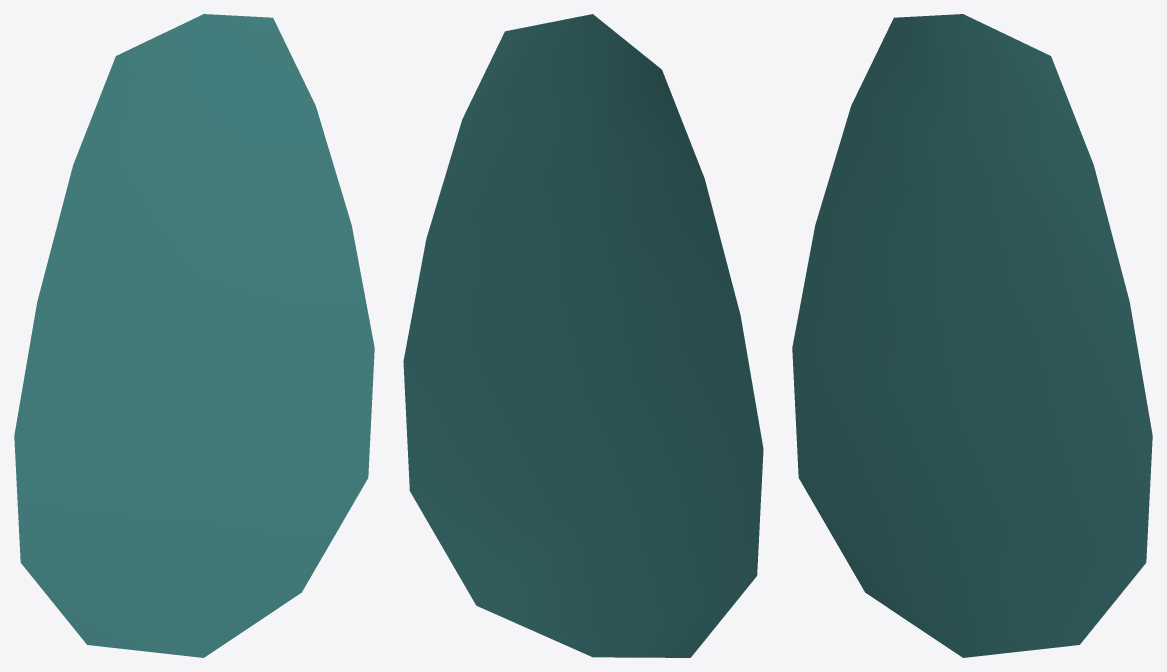
File: budgie_feather_flight_tertiary_003.obj
3 renders of one model, left to right at view 1: azimuth 30°, elevation 25°; view 2: azimuth 150°, elevation 25°; view 3: azimuth 330°, elevation 25°, orthographic.
Visible parts, largest first — view 1: feather_flight_tertiary_003; view 2: feather_flight_tertiary_003; view 3: feather_flight_tertiary_003.
Part boxes in pixels (<box>): feather_flight_tertiary_003: <box>14,14,374,657</box>; feather_flight_tertiary_003: <box>403,14,763,657</box>; feather_flight_tertiary_003: <box>792,14,1152,657</box>.
Size of the model in its own units: 0.00718 by 0.0123 by 0.000322.
